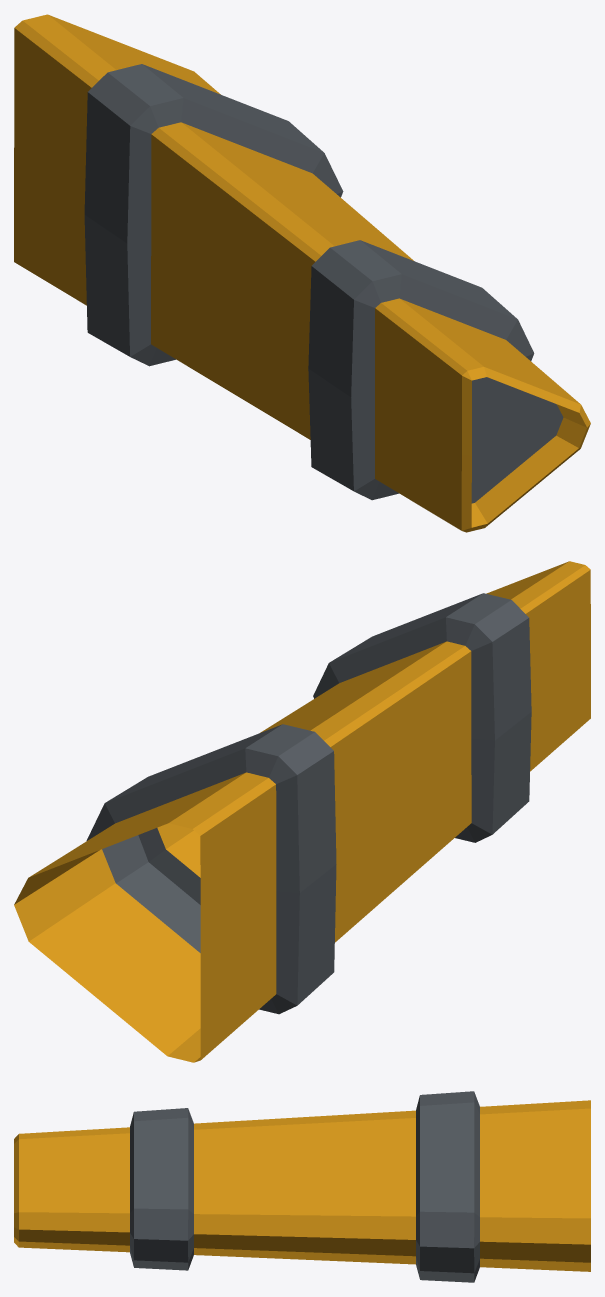
File: Mothership_02_Thruster_Nozzle_Yellow.fbx
3 views of the same model, one above another, from view 1: azimuth 30°, elevation 25°; view 2: azimuth 150°, elevation 25°; view 3: azimuth 270°, elevation 25° (orthographic). The views are drawn at different scales.
Visible parts, largest first — view 1: Mothership_02_Thruster_Nozzle_Yellow; view 2: Mothership_02_Thruster_Nozzle_Yellow; view 3: Mothership_02_Thruster_Nozzle_Yellow.
Part boxes in pixels (x1,y1,x2,y2): Mothership_02_Thruster_Nozzle_Yellow: (14, 14, 590, 532); Mothership_02_Thruster_Nozzle_Yellow: (14, 561, 590, 1062); Mothership_02_Thruster_Nozzle_Yellow: (14, 1091, 590, 1282).
Bounding box in the file's own units: 238 × 274 × 796.
1 material, 1 textured.
